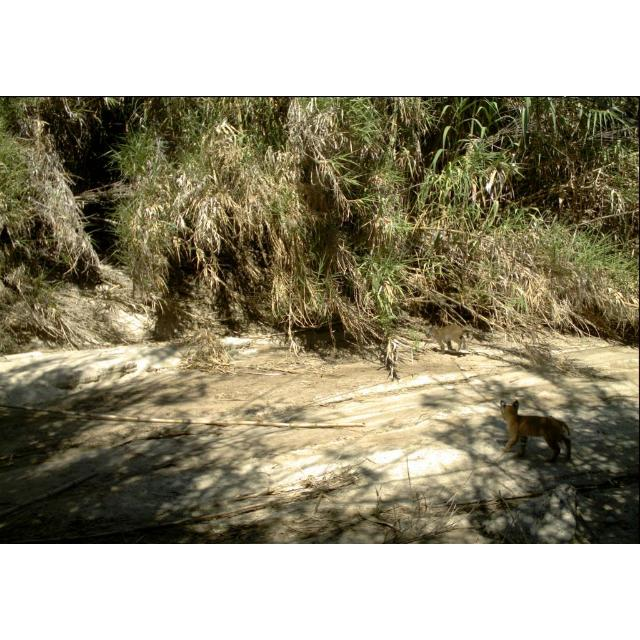animals: (500, 399, 574, 466)
